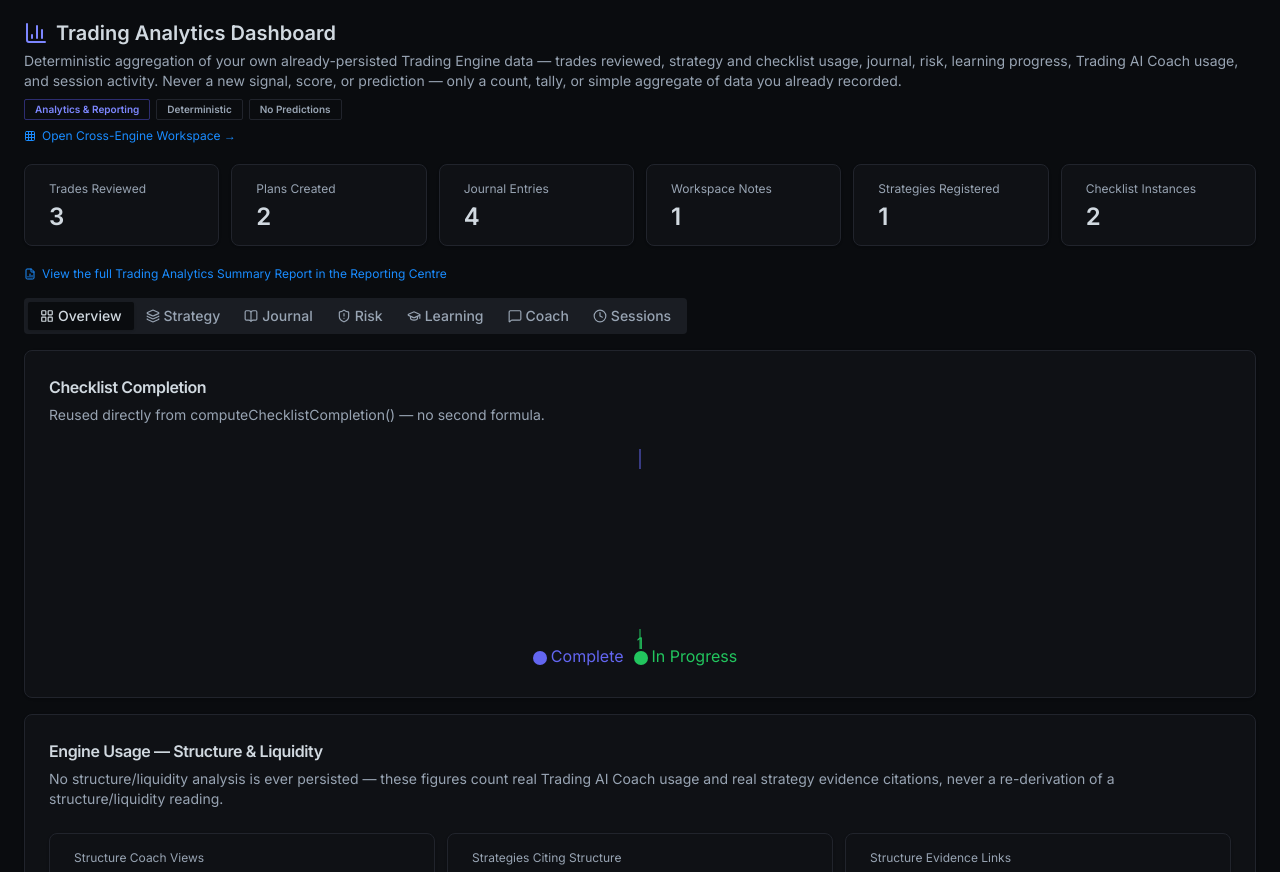
TradingAnalyticsDashboard page › Learning tab shows weakest topics honestly, never a predicted recommendation
Click the tab with test id "tab-learning-analytics" at [445, 316], box [395,302,496,330]
(page scrolled)
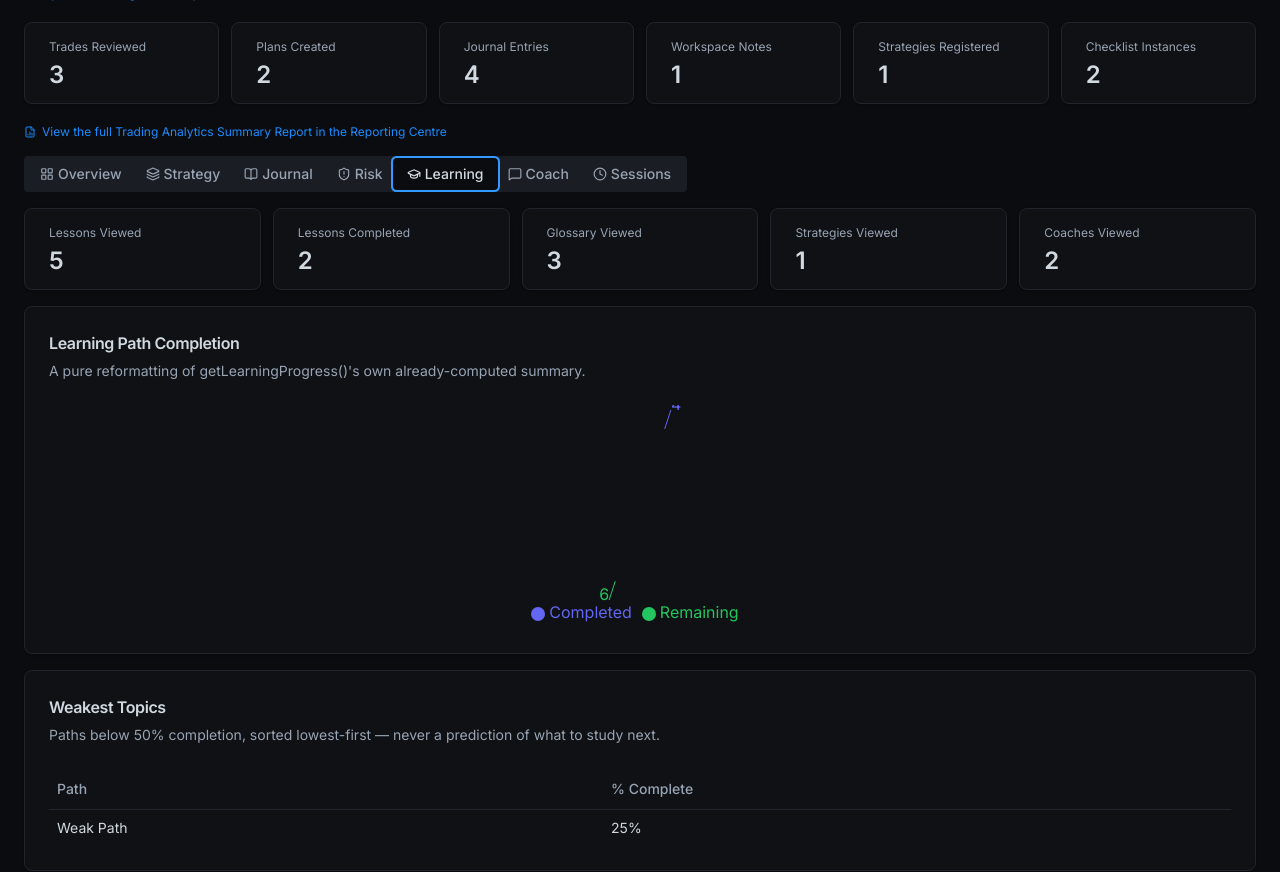
expect the text "Weak Path" is shown: met, box [49,809,603,846]
expect the text "25%" is shown: met, box [603,809,1231,846]
